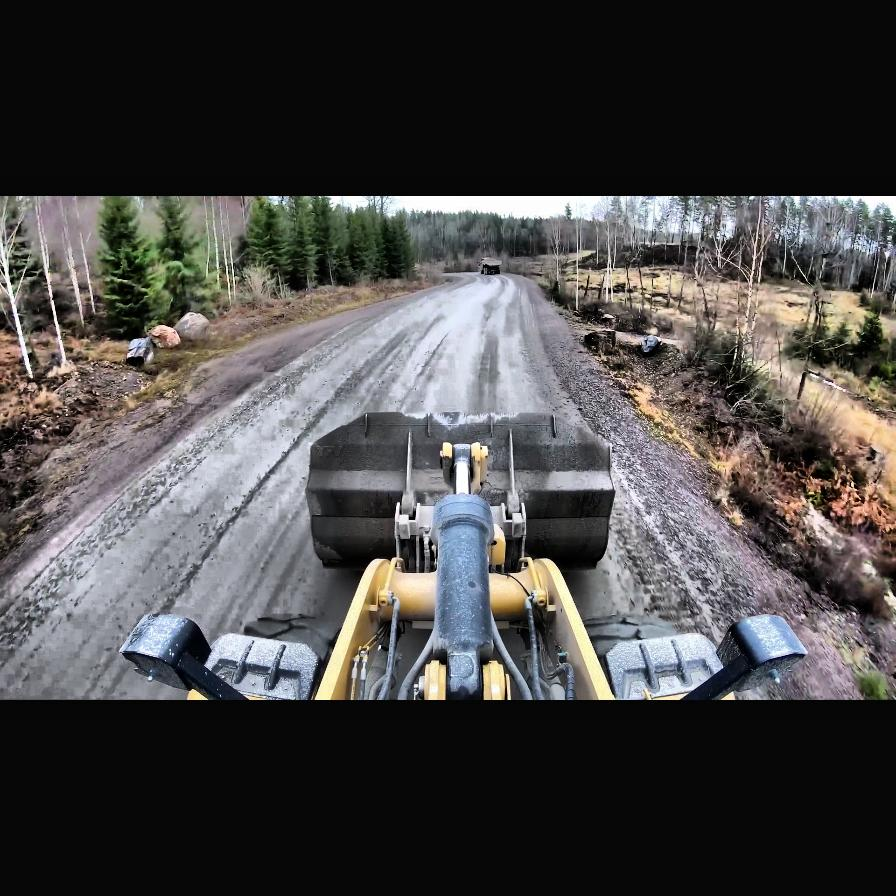anchor: (440, 441, 488, 495)
